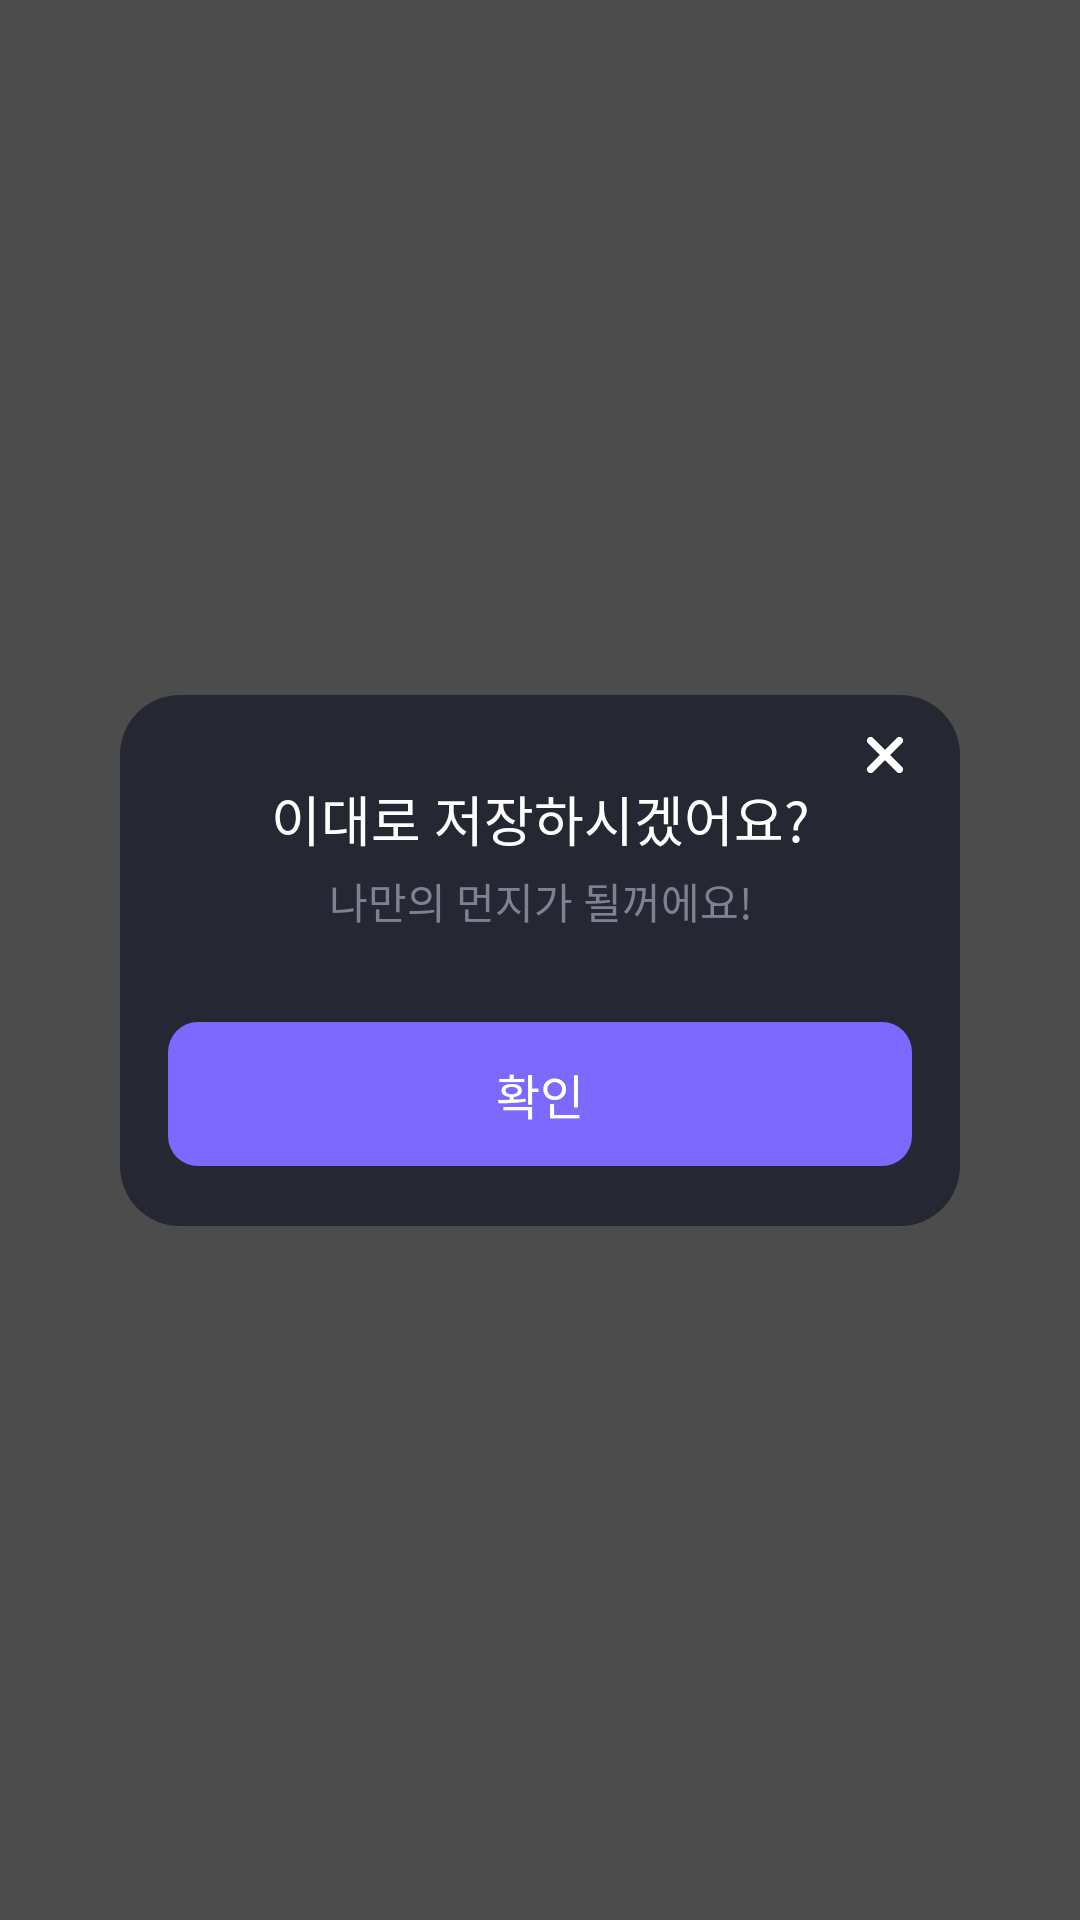

Named icons in this screenshot (1080px x 1920px) and their bounding boxes, [x1, y1, x2, y2]:
cross: [867, 737, 903, 773]
